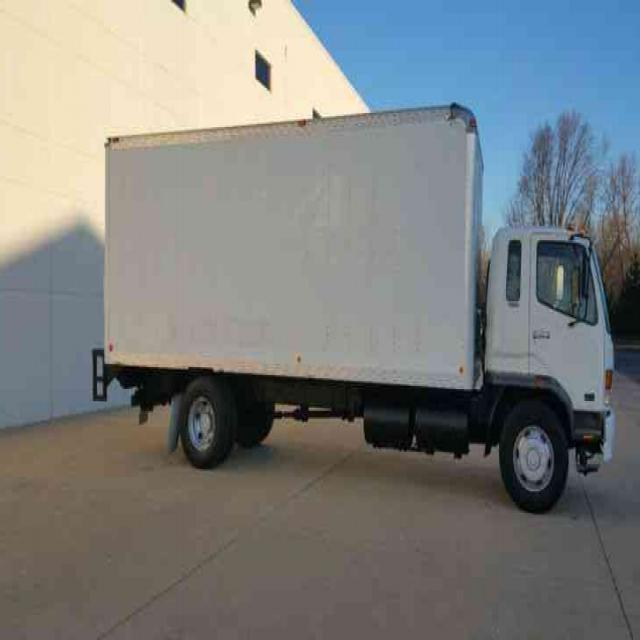truck: (90, 99, 616, 510)
